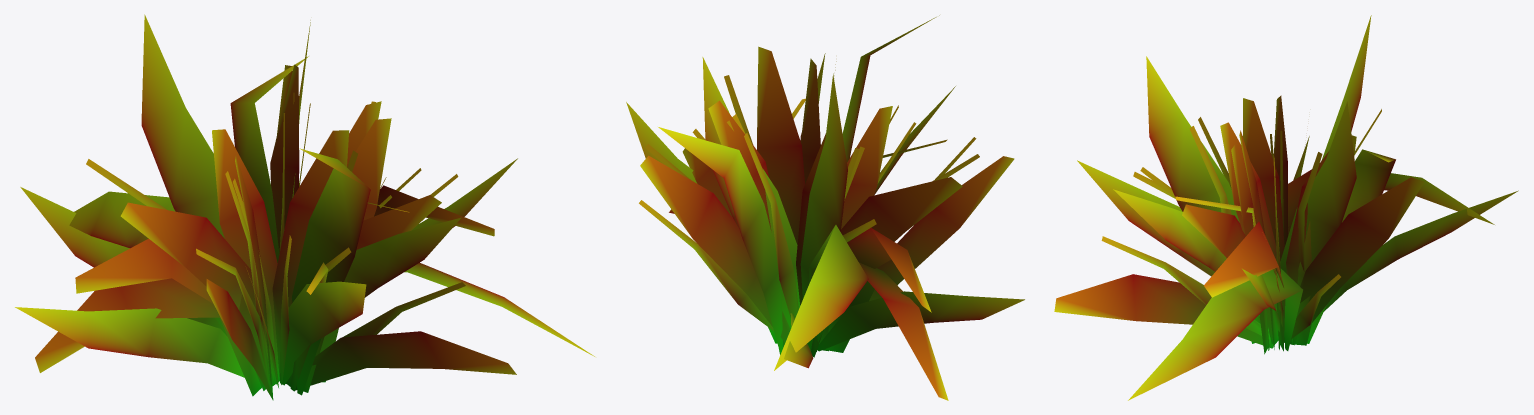
The model's file is tmjhcayia_Var5_LOD2.fbx.
The picture shows the model from 3 angles, left to right: view 1: azimuth 30°, elevation 25°; view 2: azimuth 150°, elevation 25°; view 3: azimuth 270°, elevation 25°; orthographic projection. The views are drawn at different scales.
Visible parts, largest first — view 1: Var5_LOD2; view 2: Var5_LOD2; view 3: Var5_LOD2.
Part boxes in pixels (<box>): Var5_LOD2: <box>15,14,594,400</box>; Var5_LOD2: <box>626,15,1024,400</box>; Var5_LOD2: <box>1054,15,1518,400</box>.
Bounding box in the file's own units: 13.56 × 9.72 × 13.77.
